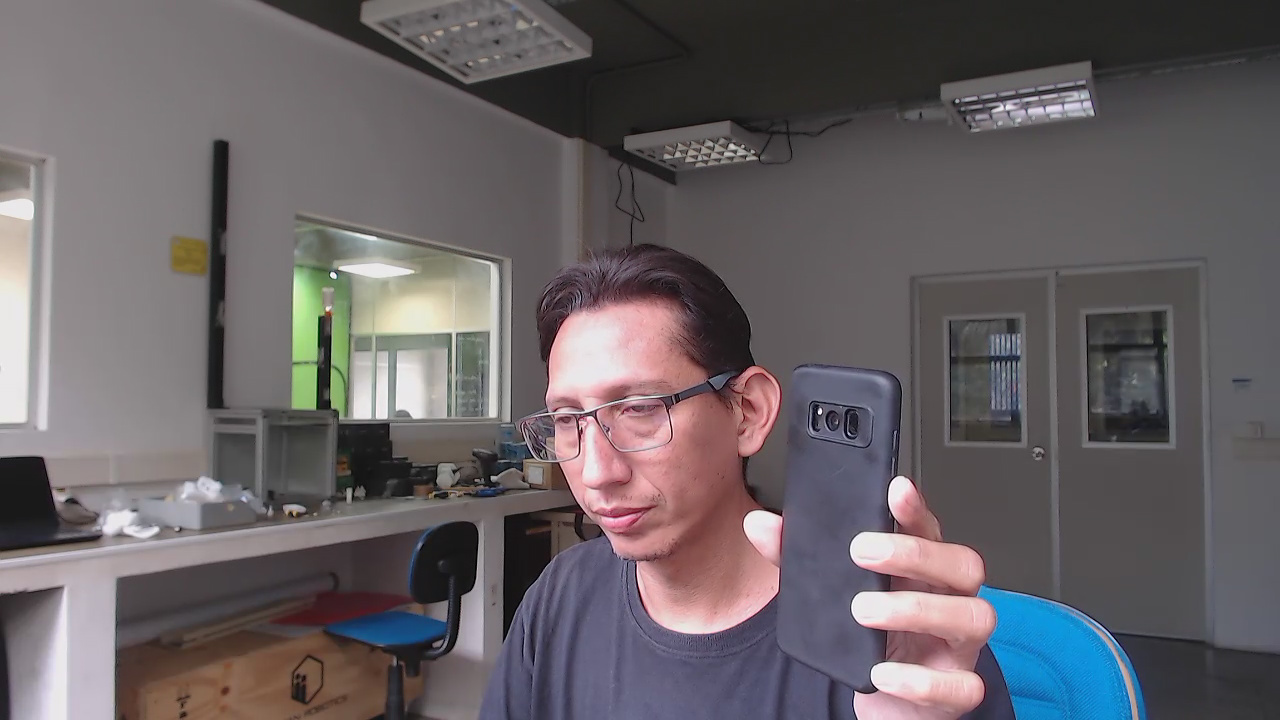Cell phone: (779, 361, 908, 700)
